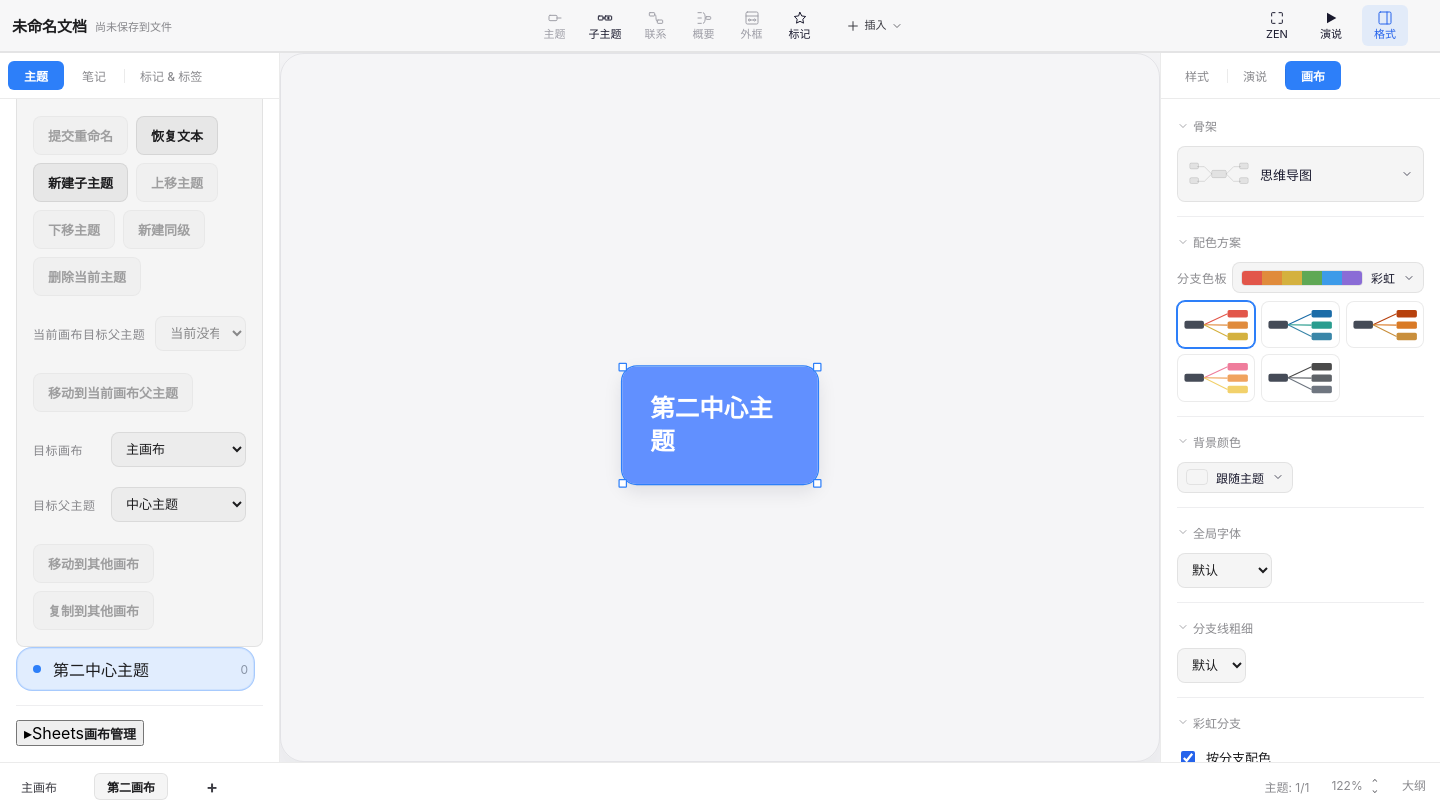
Test: renders the active sheet content instead of the first sheet
This screenshot has width=1440, height=810.
(page scrolled)
Click the button "画布管理" at (80, 733), box [16, 720, 144, 746]
(page scrolled)
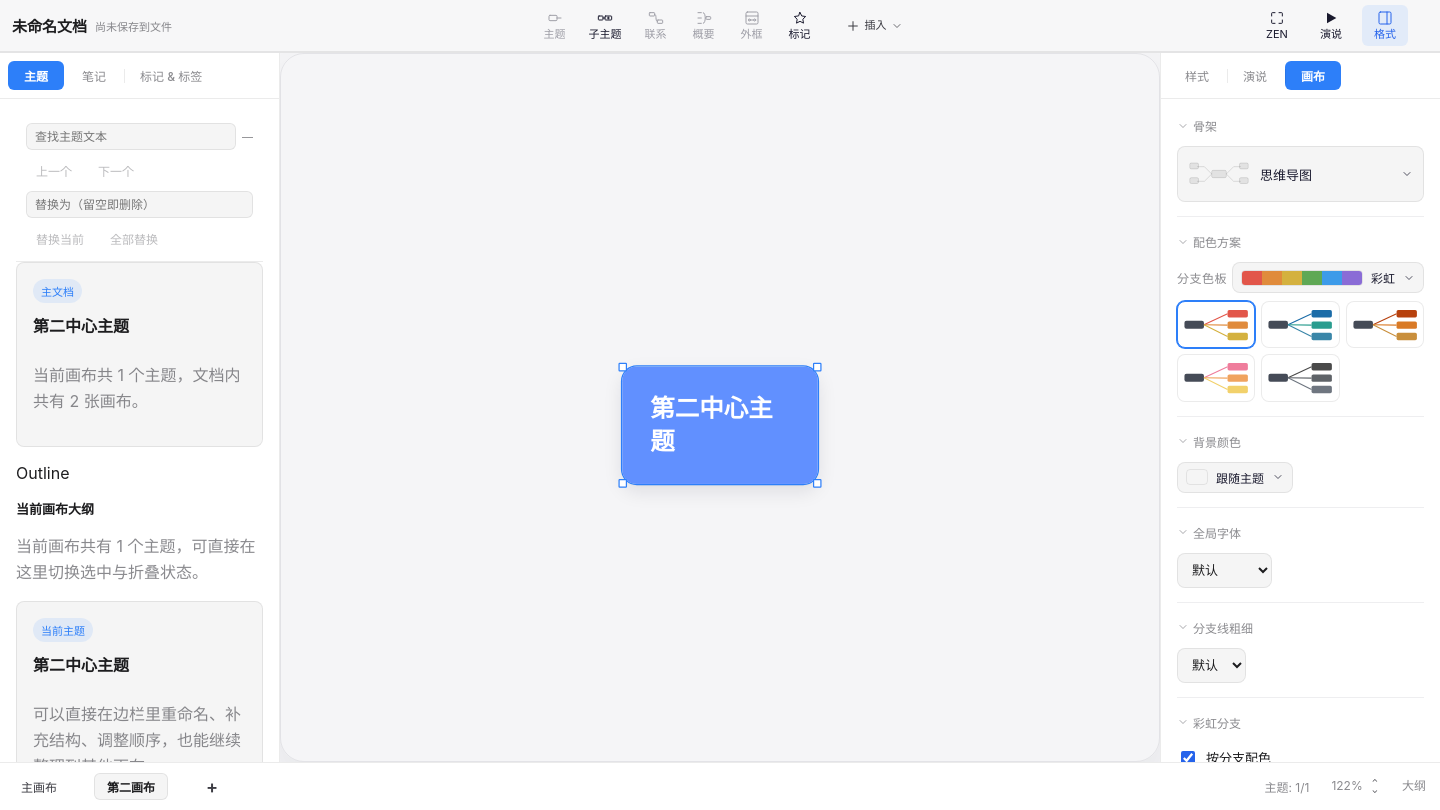
Now the text "第二中心主题" below "主文档" is shown, box [33, 316, 129, 336]
